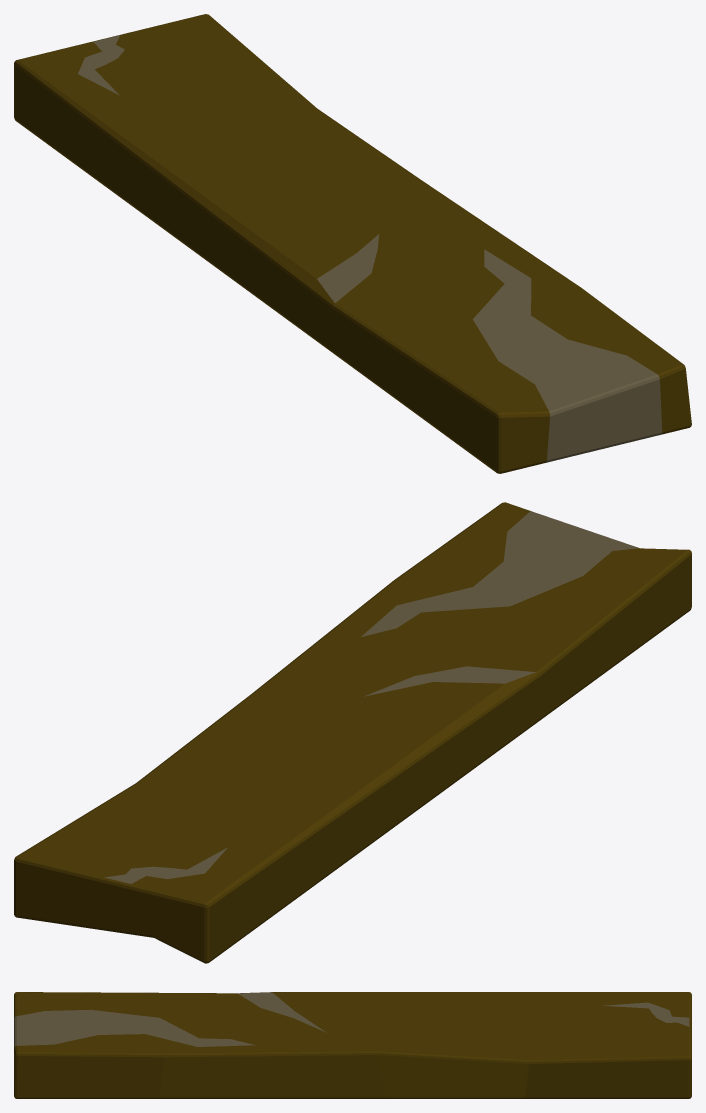
File: plank.fbx
3 views of the same model, one above another, from view 1: azimuth 30°, elevation 25°; view 2: azimuth 150°, elevation 25°; view 3: azimuth 270°, elevation 25° (orthographic). The views are drawn at different scales.
Visible parts, largest first — view 1: Cube; view 2: Cube; view 3: Cube.
Part boxes in pixels (left/top/right/bottom): Cube: left=14, top=14, right=691, bottom=473; Cube: left=14, top=502, right=691, bottom=963; Cube: left=14, top=992, right=691, bottom=1098.
Bounding box in the file's own units: 207 × 62.82 × 861.
